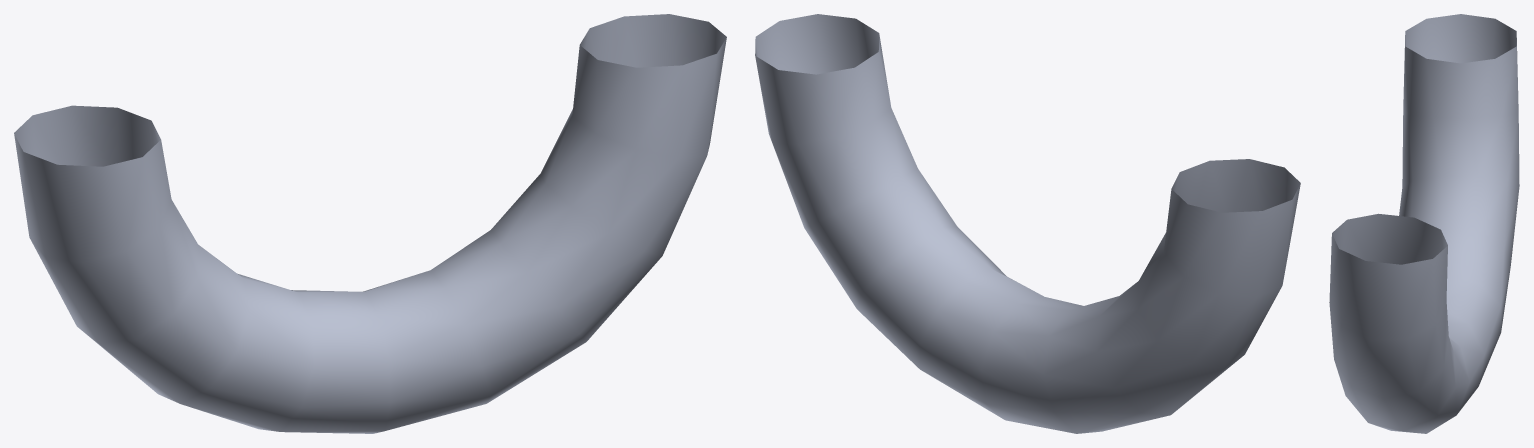
3 views of the same model, side by side, from view 1: azimuth 30°, elevation 25°; view 2: azimuth 150°, elevation 25°; view 3: azimuth 270°, elevation 25° (orthographic). The views are drawn at different scales.
Parts seen in each view (by area): view 1: Object78; view 2: Object78; view 3: Object78.
Part boxes in pixels (x1=…): Object78: x1=14, y1=14, x2=726, y2=433; Object78: x1=755, y1=14, x2=1300, y2=433; Object78: x1=1329, y1=14, x2=1519, y2=433.
Size of the model in its own units: 49985 by 25540 by 16038.
